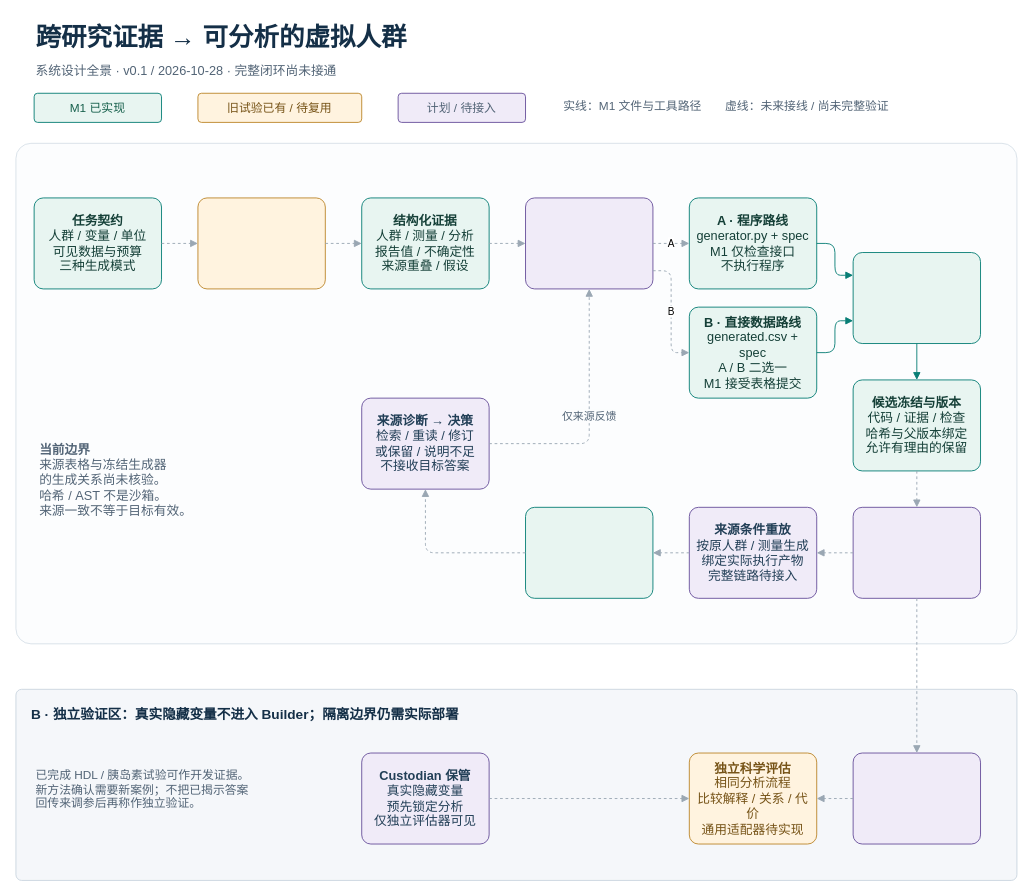
Image size: 1033x896. Some labels were removed from this diagram. Each missing label, with the box of its shape:
A · Builder 可见：许可输入、公开证据、候选与来源诊断: (15, 142, 1017, 644)
Harness 检查 格式 / 引用 / 单位 已有观测保持 不指定生物关系: (852, 252, 981, 344)
强 Agent + Skill 解释证据 / 选结构 决定参数与修订 Skill 已有；启动器待接: (525, 197, 653, 289)
来源统计工具 均值 / SD / 相关 OLS 系数 / 比例 M1 检查提交表格: (525, 506, 653, 598)
证据网关 检索 / 获取 / 筛查 旧试验已运行 新系统待接入: (197, 197, 325, 289)
锁定发布包 虚拟数据 + 执行凭据 代码 / 证据 / 假设 完整发布链路待实现: (852, 752, 981, 844)
隔离执行 / 产物验收 程序运行 / 表格复核 限制文件 / 网络访问 新系统尚未实现: (852, 506, 981, 598)
